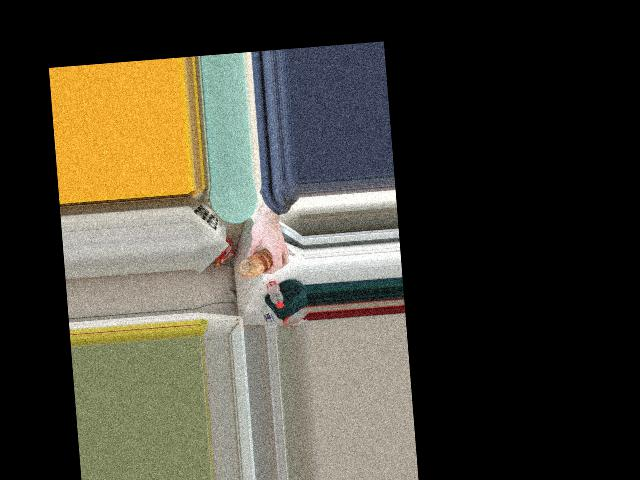sweet_potato: (243, 248, 273, 278)
